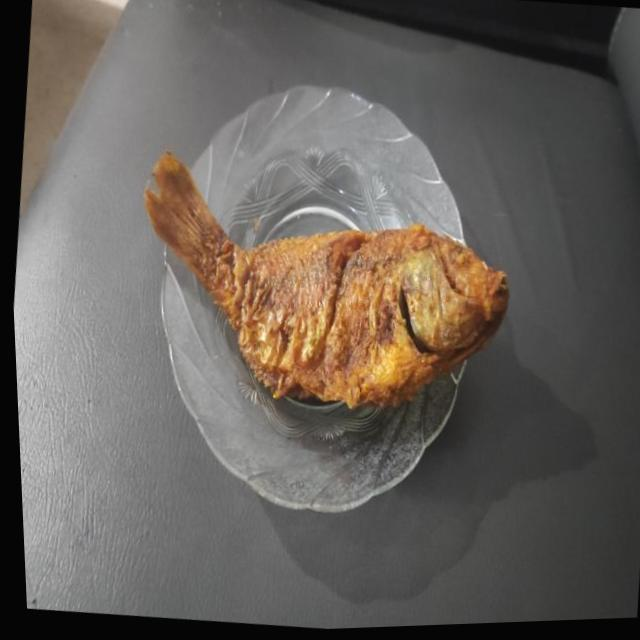ikan_mujair: (145, 152, 508, 407)
